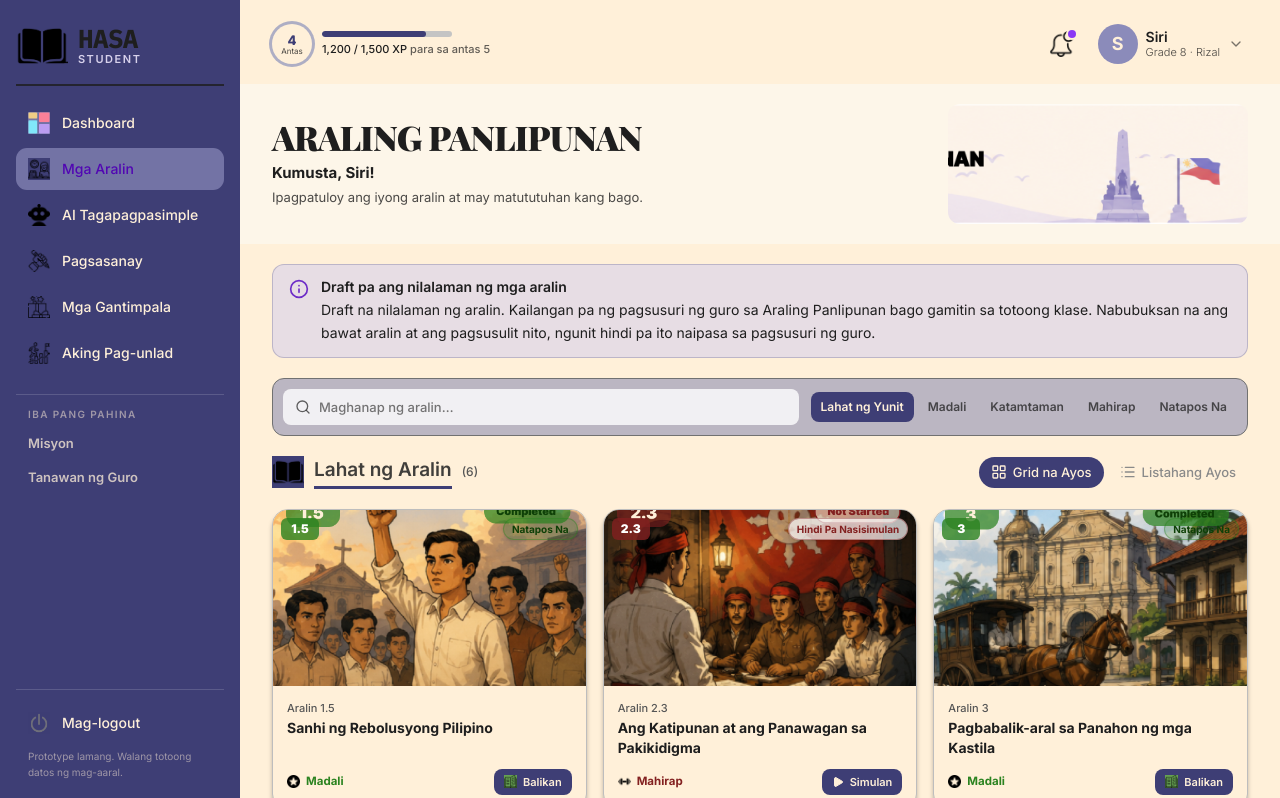
mga aralin › nagpapakita ng empty state at nagre-reset ng salaan
The image size is (1280, 798).
Step 1. Type "walang ganitong aralin" into the search field labelled "Maghanap ng aralin…" → {"x": 541, "y": 406}, box [283,388,798,424]
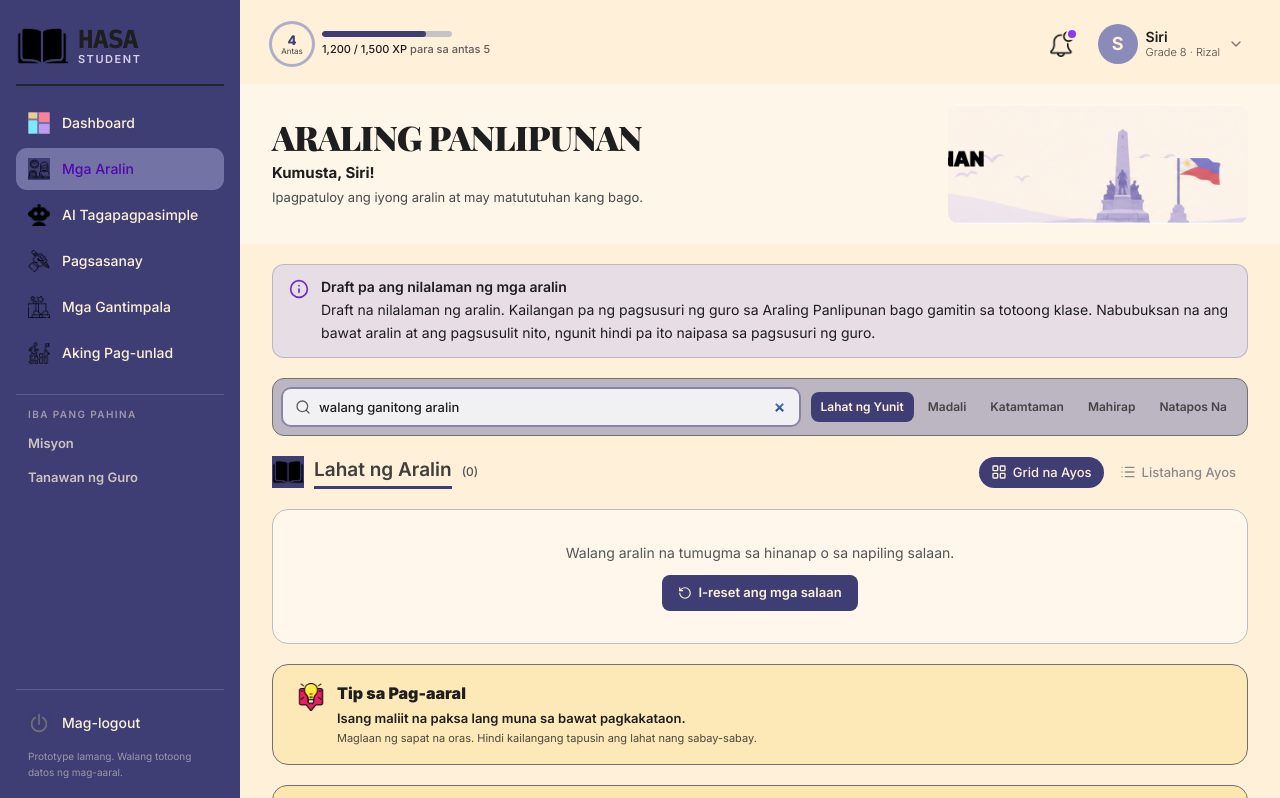
expect the text "Walang aralin na tumugma sa hinanap o sa napiling salaan." is shown: met, box [566,544,954,561]
Step 2. Click the button "I-reset ang mga salaan" → {"x": 760, "y": 593}, box [662,575,858,610]
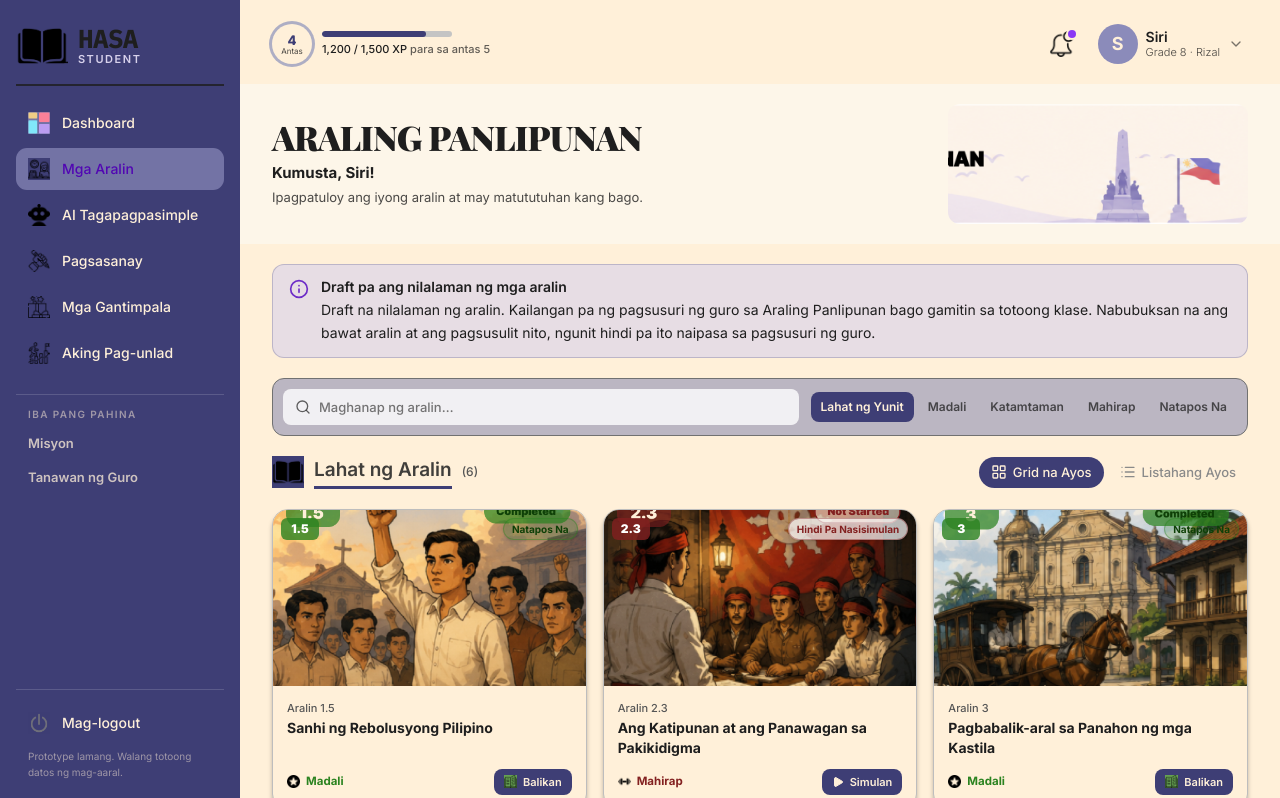
expect the heading "Sanhi ng Rebolusyong Pilipino" is shown: met, box [287,719,493,736]
